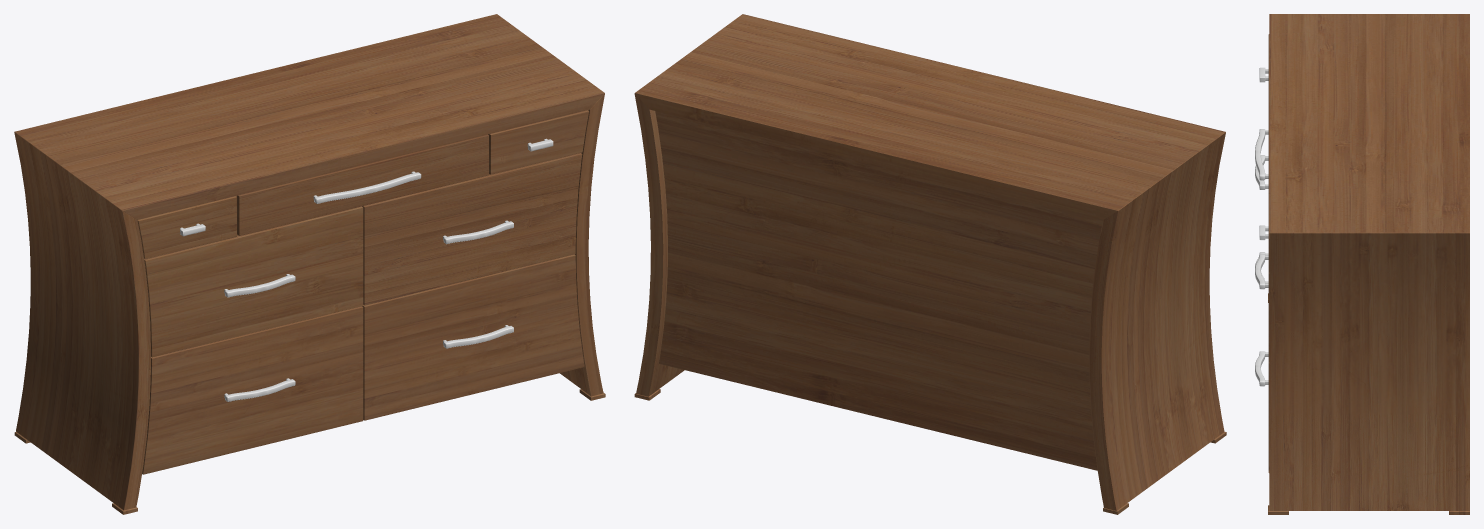
Rendered from commode.gltf.
The picture shows the model from 3 angles, left to right: view 1: azimuth 30°, elevation 25°; view 2: azimuth 150°, elevation 25°; view 3: azimuth 270°, elevation 25°; orthographic projection. The views are drawn at different scales.
Visible parts, largest first — view 1: SM_Commode; view 2: SM_Commode; view 3: SM_Commode.
Boxes of the visible parts, x1=… form: SM_Commode: x1=14, y1=14, x2=605, y2=514; SM_Commode: x1=634, y1=14, x2=1226, y2=514; SM_Commode: x1=1255, y1=14, x2=1469, y2=514.
Bounding box in the file's own units: 1.47 × 0.8841 × 0.6091.
2 materials, 1 textured.
